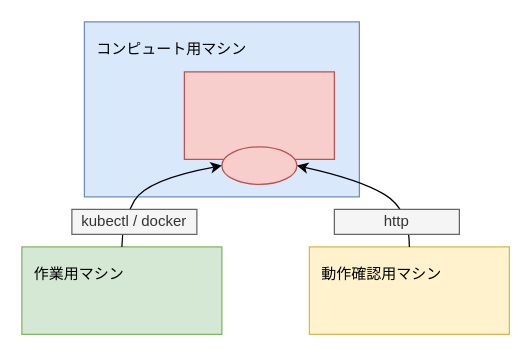
This 531x356 diagram has some shape labels left out. The centre of each missing label's shape, as x and y in pixels:
"Bridge" belongs at point (259, 165).
"microk8s on VirtualBox's Ubuntu 20.04" belongs at point (258, 115).
